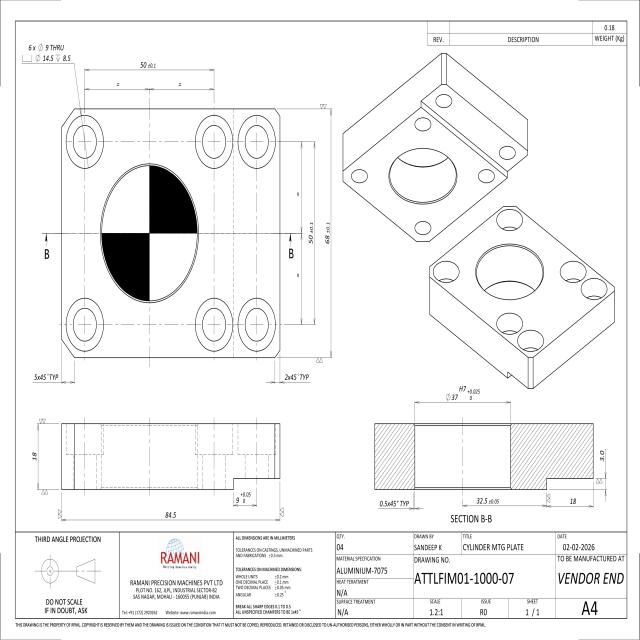dimension: (445, 384, 480, 401), (19, 54, 72, 64), (27, 42, 65, 53), (379, 498, 411, 508), (283, 372, 310, 382), (33, 372, 60, 382), (234, 491, 252, 504), (138, 59, 158, 69), (475, 497, 500, 505), (324, 220, 331, 247), (307, 221, 314, 246), (164, 509, 178, 519), (31, 449, 38, 462), (598, 448, 604, 462), (569, 496, 577, 506)
